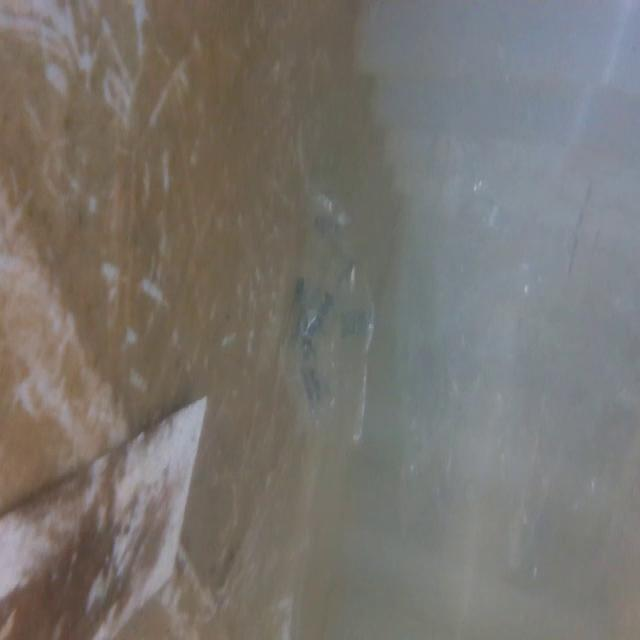plastic bags: (266, 156, 380, 458)
